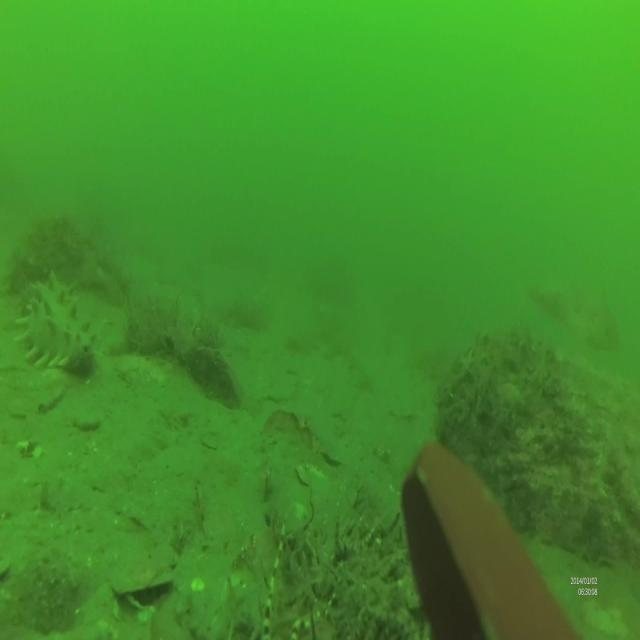holothurian: (15, 271, 97, 378)
